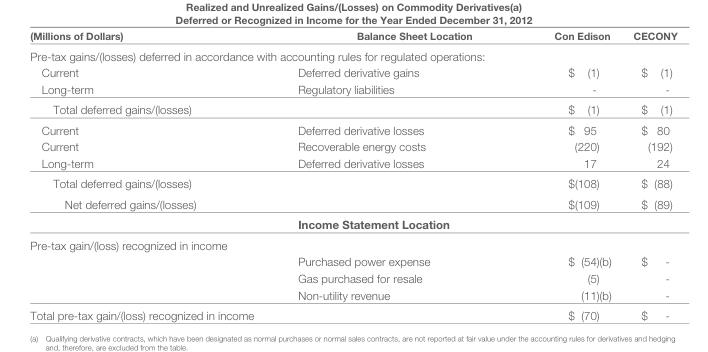table: (29, 29, 676, 321)
table column: (29, 29, 275, 321), (275, 29, 512, 321), (512, 29, 621, 321), (621, 29, 676, 321)
table column header: (29, 29, 676, 45)
table projected row header: (29, 45, 676, 63), (29, 234, 676, 252)
table row: (29, 98, 676, 119), (29, 172, 676, 193), (29, 213, 676, 234), (29, 193, 676, 213), (29, 285, 676, 304), (29, 45, 676, 63), (29, 80, 676, 98), (29, 119, 676, 137), (29, 154, 676, 172), (29, 234, 676, 252), (29, 63, 676, 80), (29, 137, 676, 154), (29, 252, 676, 269), (29, 304, 676, 321), (29, 29, 676, 45), (29, 269, 676, 285)
table spanning cell: (29, 193, 275, 234)
